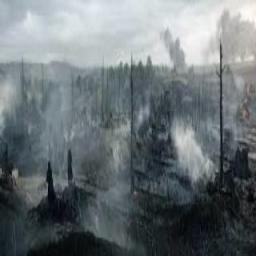Low smoke: (1, 27, 245, 236)
